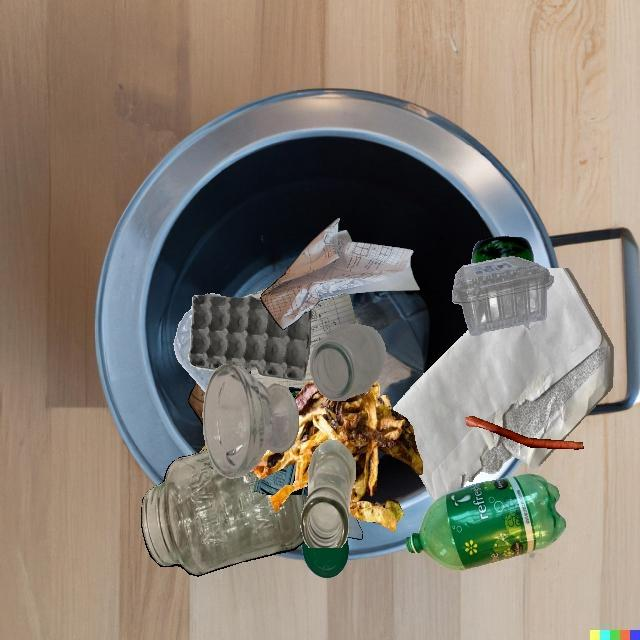biowaste: (249, 381, 422, 532), (465, 416, 584, 449), (200, 444, 207, 452)
cardboard: (188, 293, 311, 382)
glass: (141, 449, 307, 576), (202, 364, 299, 479), (301, 440, 356, 548), (310, 324, 386, 401), (472, 237, 534, 264), (253, 463, 292, 495), (288, 388, 299, 455)
paper: (392, 268, 613, 501), (202, 386, 349, 534), (260, 218, 420, 329), (251, 293, 357, 388)
plastic: (406, 473, 567, 571), (452, 256, 554, 336), (188, 297, 250, 373), (174, 305, 215, 392), (302, 537, 349, 578)
